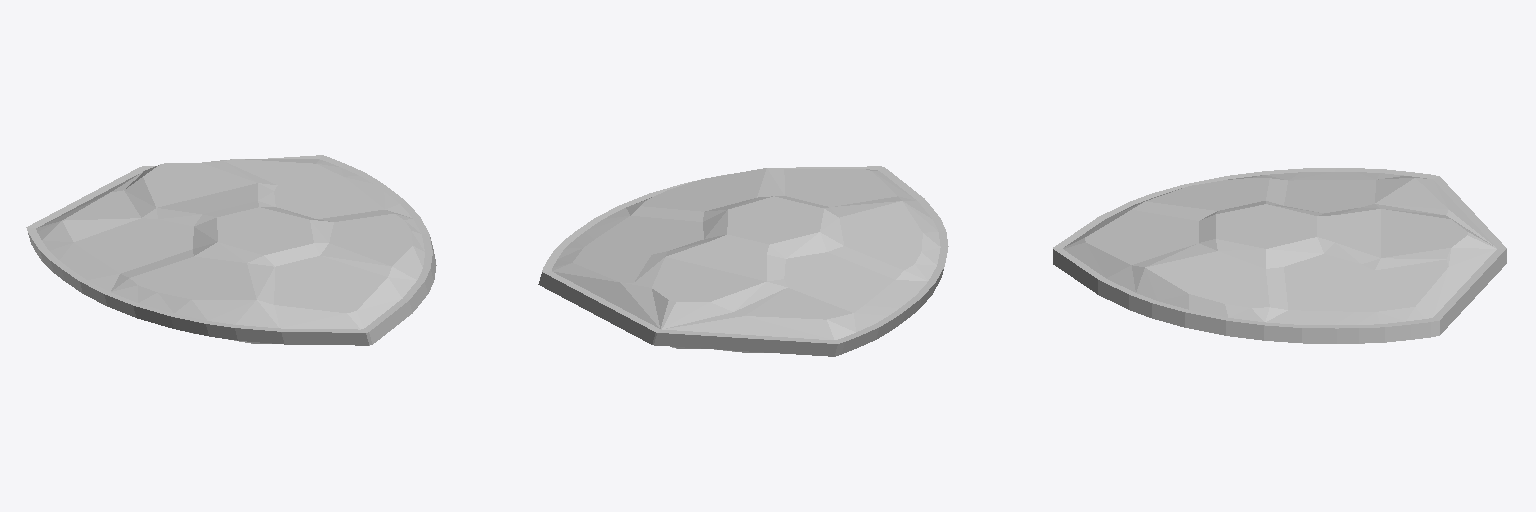
Rendered from trowShellTri.obj.
3 renders of one model, left to right at view 1: azimuth 30°, elevation 25°; view 2: azimuth 150°, elevation 25°; view 3: azimuth 270°, elevation 25°, orthographic.
Visible parts, largest first — view 1: Plane; view 2: Plane; view 3: Plane.
Boxes of the visible parts, box(x1,y1,x2,y2) form: Plane: box(26, 155, 436, 345); Plane: box(538, 166, 948, 356); Plane: box(1053, 168, 1506, 343).
Bounding box in the file's own units: 1.49 × 0.2558 × 1.76.